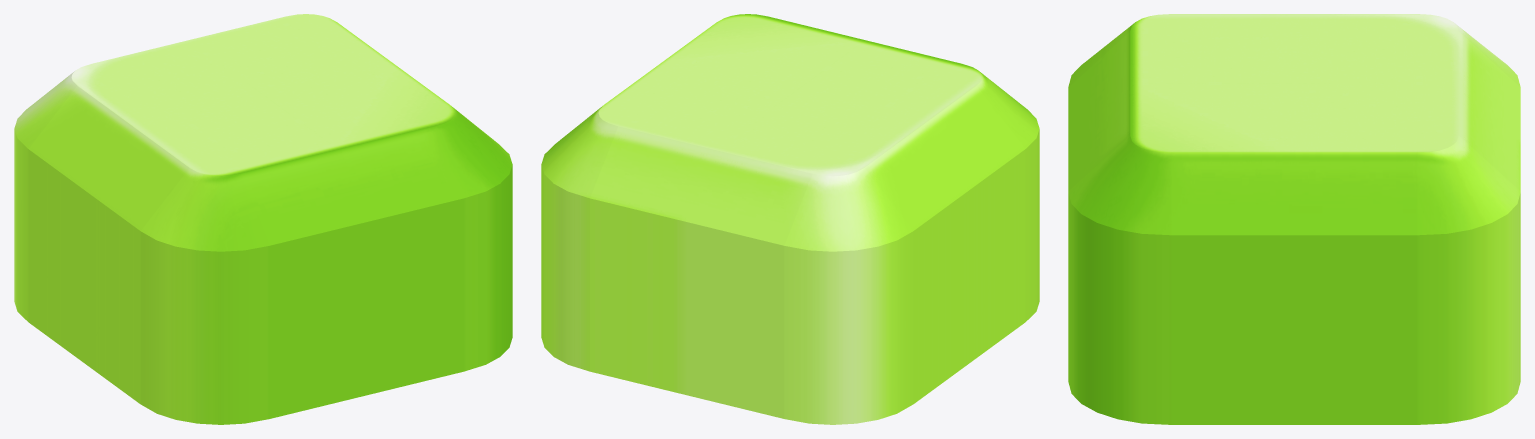
File: Block_1x1_Green.glb
3 views of the same model, side by side, from view 1: azimuth 30°, elevation 25°; view 2: azimuth 150°, elevation 25°; view 3: azimuth 270°, elevation 25° (orthographic). The views are drawn at different scales.
Visible parts, largest first — view 1: Edge_Bottom, FrontFace, Edge_Left, Corner_BottomLeft, Corner_BottomRight, Corner_TopLeft; view 2: Edge_Top, FrontFace, Edge_Left, Corner_TopLeft, Corner_TopRight, Corner_BottomLeft; view 3: Edge_Right, FrontFace, Corner_TopRight, Corner_BottomRight, Edge_Top, Edge_Bottom, Corner_TopLeft, Corner_BottomLeft.
Boxes of the visible parts, <box> form: Edge_Bottom: <box>241,126,463,418</box>; FrontFace: <box>71,14,455,176</box>; Edge_Left: <box>28,86,189,403</box>; Corner_BottomLeft: <box>140,168,269,424</box>; Corner_BottomRight: <box>436,106,512,371</box>; Corner_TopLeft: <box>14,71,77,321</box>; Edge_Top: <box>590,126,812,418</box>; FrontFace: <box>598,14,982,176</box>; Edge_Left: <box>864,86,1025,403</box>; Corner_TopLeft: <box>784,168,913,424</box>; Corner_TopRight: <box>541,106,617,371</box>; Corner_BottomLeft: <box>976,71,1039,321</box>; Edge_Right: <box>1171,153,1417,424</box>; FrontFace: <box>1130,14,1458,152</box>; Corner_TopRight: <box>1417,135,1520,424</box>; Corner_BottomRight: <box>1068,135,1171,424</box>; Edge_Top: <box>1458,32,1520,190</box>; Edge_Bottom: <box>1068,32,1130,190</box>; Corner_TopLeft: <box>1453,22,1520,86</box>; Corner_BottomLeft: <box>1068,22,1135,86</box>.
Bounding box in the file's own units: 1 × 0.5995 × 1.
Materials: 1 (1 with a texture image).
